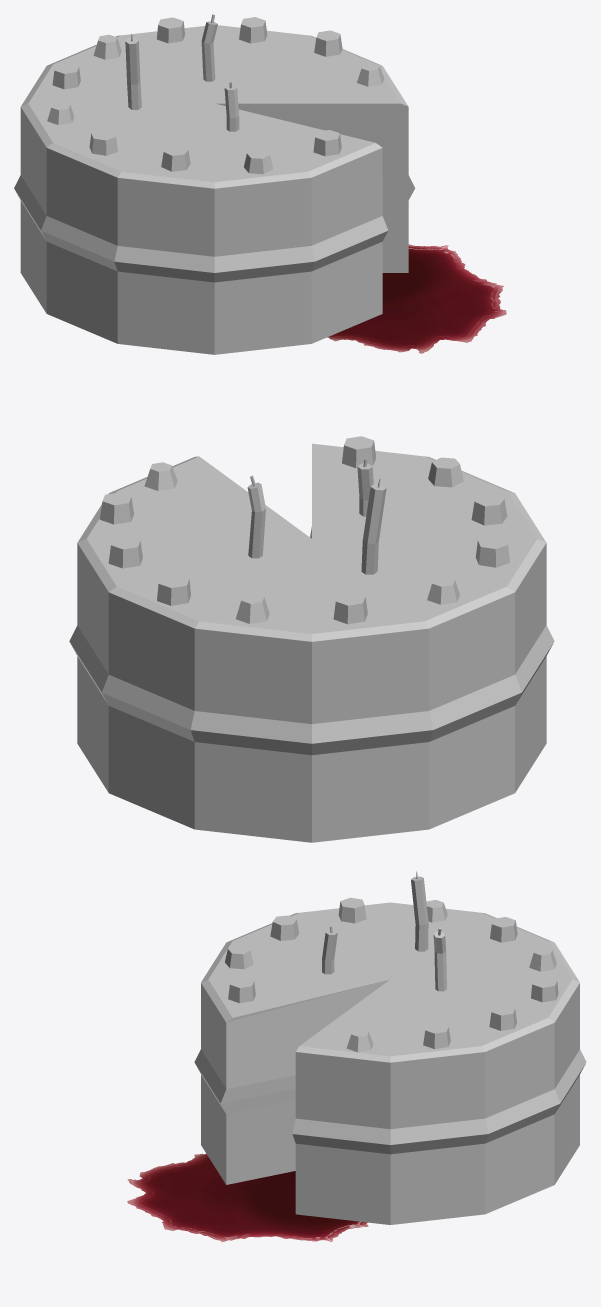
The model's file is halloween cake (1).fbx.
The picture shows the model from 3 angles, top to bottom: view 1: azimuth 30°, elevation 25°; view 2: azimuth 150°, elevation 25°; view 3: azimuth 270°, elevation 25°; orthographic projection. The views are drawn at different scales.
Parts seen in each view (by area): view 1: cake body, Plane, cream? 1, candles; view 2: cake body, cream? 1, candles; view 3: cake body, Plane, cream? 1, candles.
Part boxes in pixels (box(x1,y1,x2,y2)): cake body: box(14, 25, 415, 354); Plane: box(327, 244, 506, 353); cream? 1: box(47, 17, 384, 174); candles: box(125, 14, 239, 131); cake body: box(69, 443, 554, 842); cream? 1: box(99, 436, 509, 624); candles: box(247, 458, 386, 574); cake body: box(194, 902, 586, 1224); Plane: box(127, 1153, 368, 1242); cream? 1: box(225, 897, 558, 1052); candles: box(322, 871, 446, 991).
Bounding box in the file's own units: 337 × 156 × 337.
